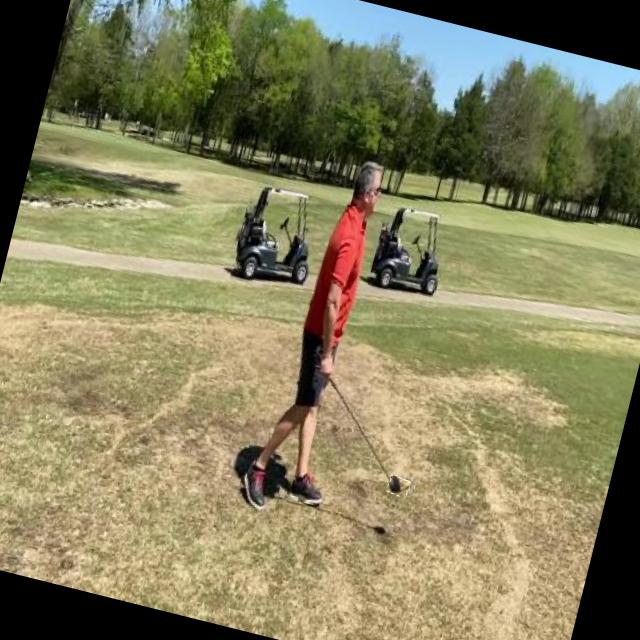club head: (386, 475, 410, 498)
